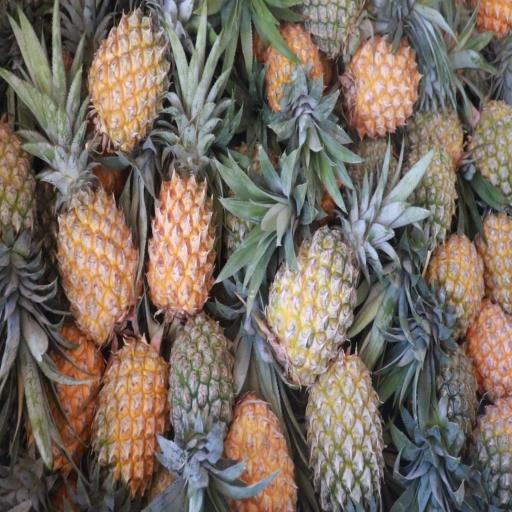------------------------------: (274, 234, 357, 378), (310, 359, 384, 512)
Pineapple - v8 v1: (61, 168, 136, 336), (91, 11, 167, 146), (151, 172, 218, 320), (99, 342, 168, 484), (33, 332, 101, 469), (224, 398, 295, 511), (351, 37, 420, 130), (0, 116, 42, 263), (264, 28, 325, 124), (430, 236, 482, 332)
